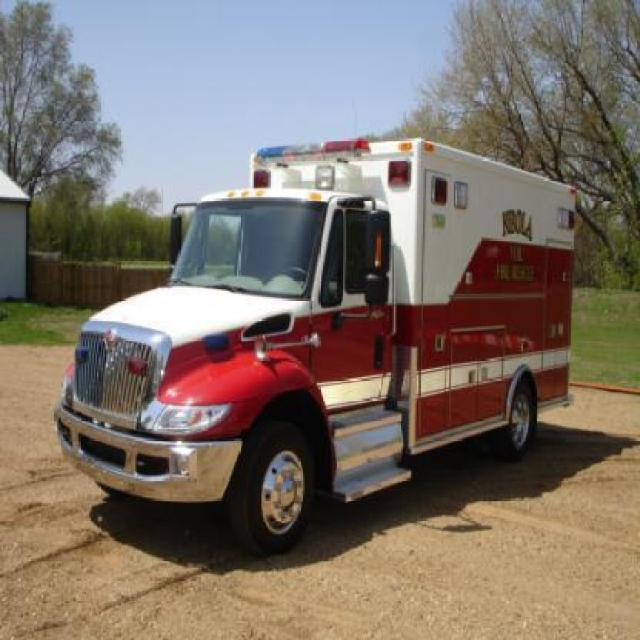emergency: (52, 135, 582, 557)
